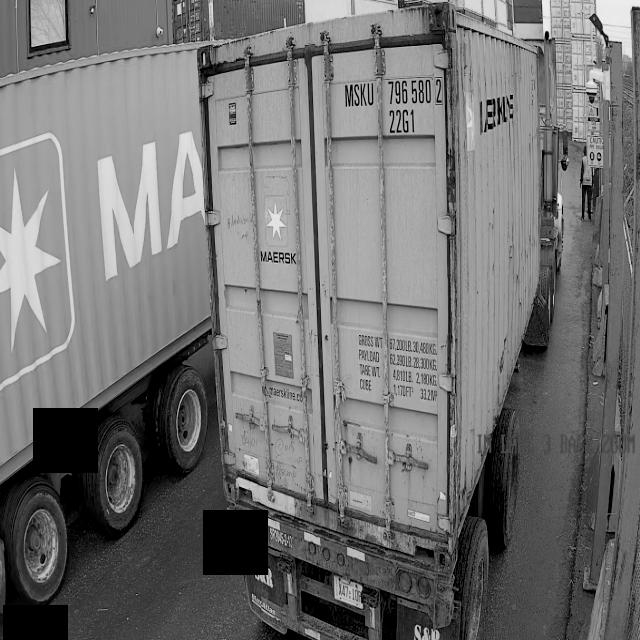container_company_logo: (260, 195, 296, 264)
container_number: (335, 64, 469, 145)
driver: (580, 145, 593, 220)
other_container_info: (357, 324, 441, 406)
truck_with_container: (198, 3, 568, 640), (0, 45, 211, 612)
